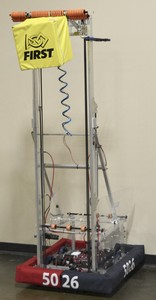cube: (14, 19, 73, 69)
